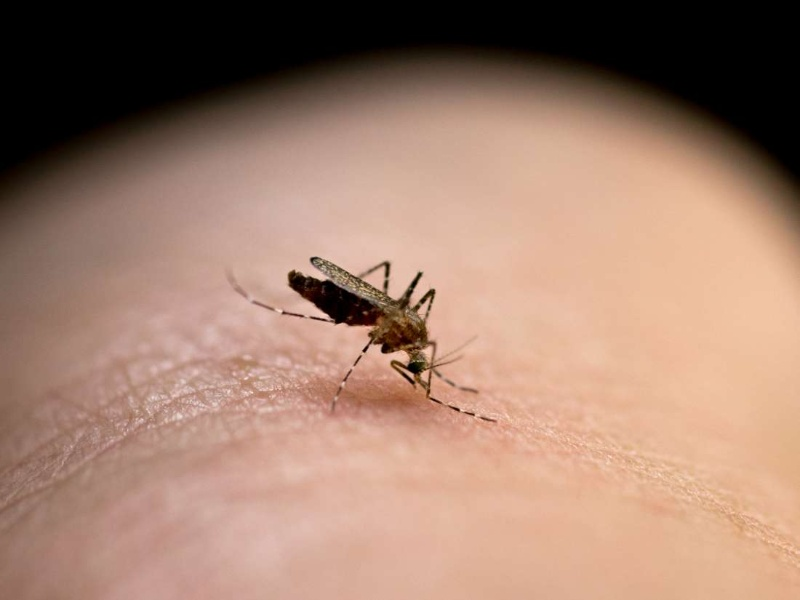dengue_mosquito: (282, 256, 454, 411)
